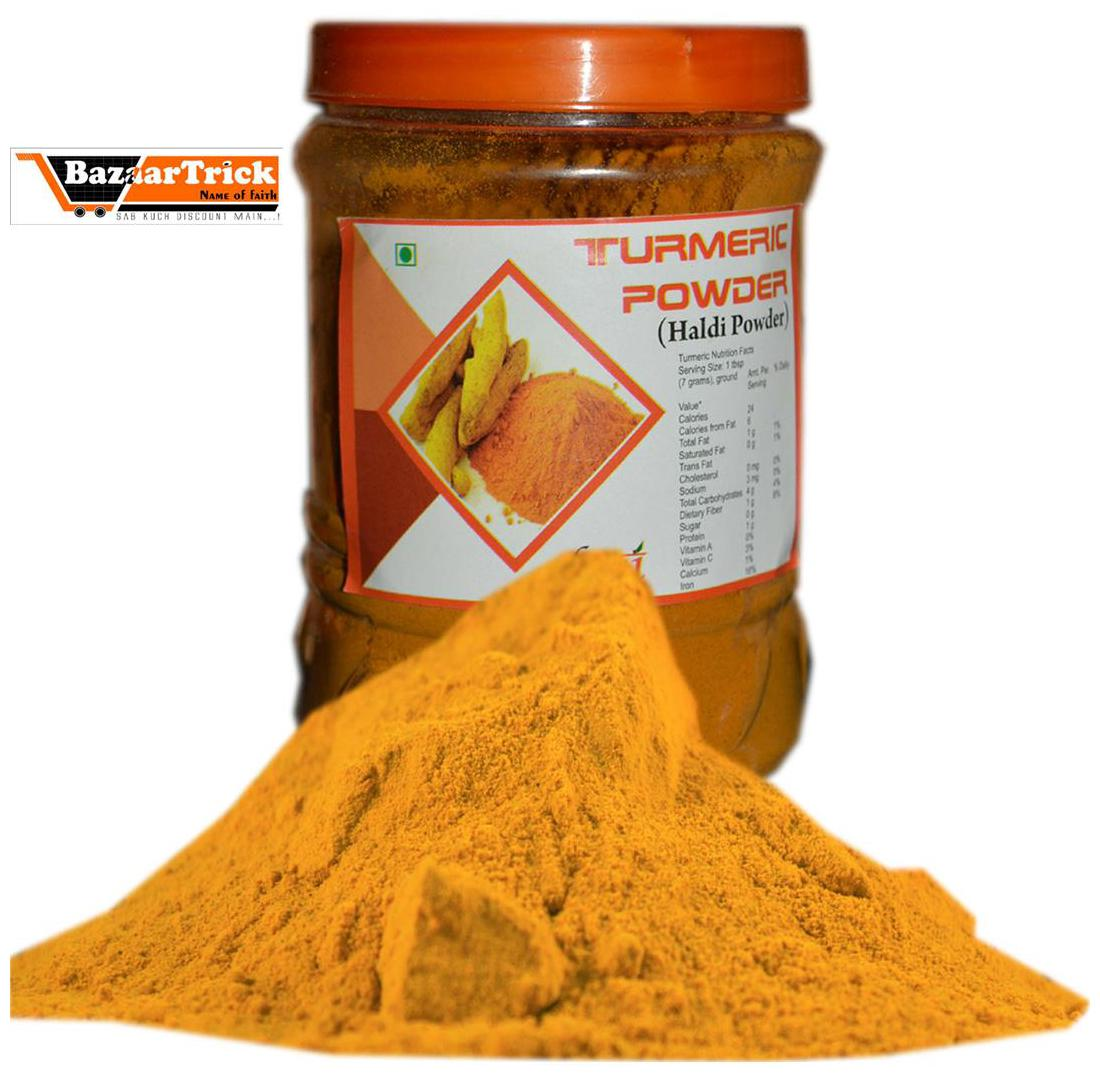JAR: (290, 13, 825, 796)
